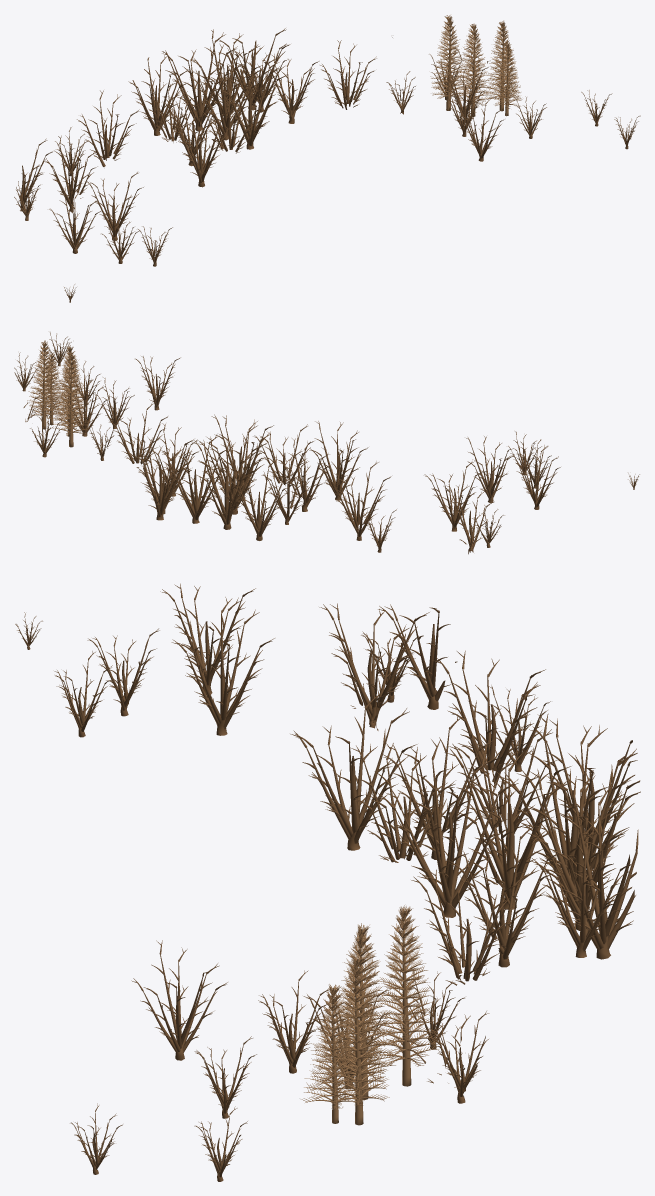
File: forest-wood.glb
3 renders of one model, top to bottom at view 1: azimuth 30°, elevation 25°; view 2: azimuth 150°, elevation 25°; view 3: azimuth 270°, elevation 25°, orthographic. The views are drawn at different scales.
Parts seen in each view (by area): view 1: part_00030, part_00003, part_00032, part_00019, part_00034, part_00029, part_00009, part_00008, part_00031, part_00024, part_00005, part_00004 (+14 smaller); view 2: part_00030, part_00003, part_00029, part_00004, part_00005, part_00019, part_00009, part_00024, part_00008, part_00034, part_00032, part_00028 (+17 smaller); view 3: part_00030, part_00034, part_00029, part_00005, part_00019, part_00008, part_00003, part_00031, part_00032, part_00024, part_00004, part_00027 (+19 smaller).
Boxes of the visible parts, <box> form: part_00030: <box>430,15,468,110</box>; part_00003: <box>162,32,237,130</box>; part_00032: <box>454,23,495,116</box>; part_00019: <box>190,44,263,140</box>; part_00034: <box>215,60,287,149</box>; part_00029: <box>485,20,519,111</box>; part_00009: <box>128,55,188,135</box>; part_00008: <box>170,109,231,187</box>; part_00031: <box>492,42,522,116</box>; part_00024: <box>77,90,139,166</box>; part_00005: <box>218,28,290,110</box>; part_00004: <box>191,29,262,114</box>; part_00030: <box>52,354,90,447</box>; part_00003: <box>192,440,262,529</box>; part_00029: <box>27,340,63,429</box>; part_00004: <box>162,434,229,523</box>; part_00005: <box>133,436,193,520</box>; part_00019: <box>198,424,268,514</box>; part_00009: <box>227,459,291,540</box>; part_00024: <box>326,461,391,540</box>; part_00008: <box>309,421,368,500</box>; part_00034: <box>209,414,273,501</box>; part_00032: <box>49,345,86,436</box>; part_00028: <box>424,461,483,531</box>; part_00030: <box>370,905,443,1086</box>; part_00034: <box>376,739,518,917</box>; part_00029: <box>318,955,389,1125</box>; part_00005: <box>530,776,638,959</box>; part_00019: <box>444,743,571,909</box>; part_00008: <box>290,690,417,850</box>; part_00003: <box>499,713,640,901</box>; part_00031: <box>301,984,365,1123</box>; part_00032: <box>323,923,395,1099</box>; part_00024: <box>432,650,545,791</box>; part_00004: <box>517,769,640,930</box>; part_00027: <box>449,824,562,967</box>.
Bounding box in the file's own units: 90.75 × 14.35 × 44.19.
